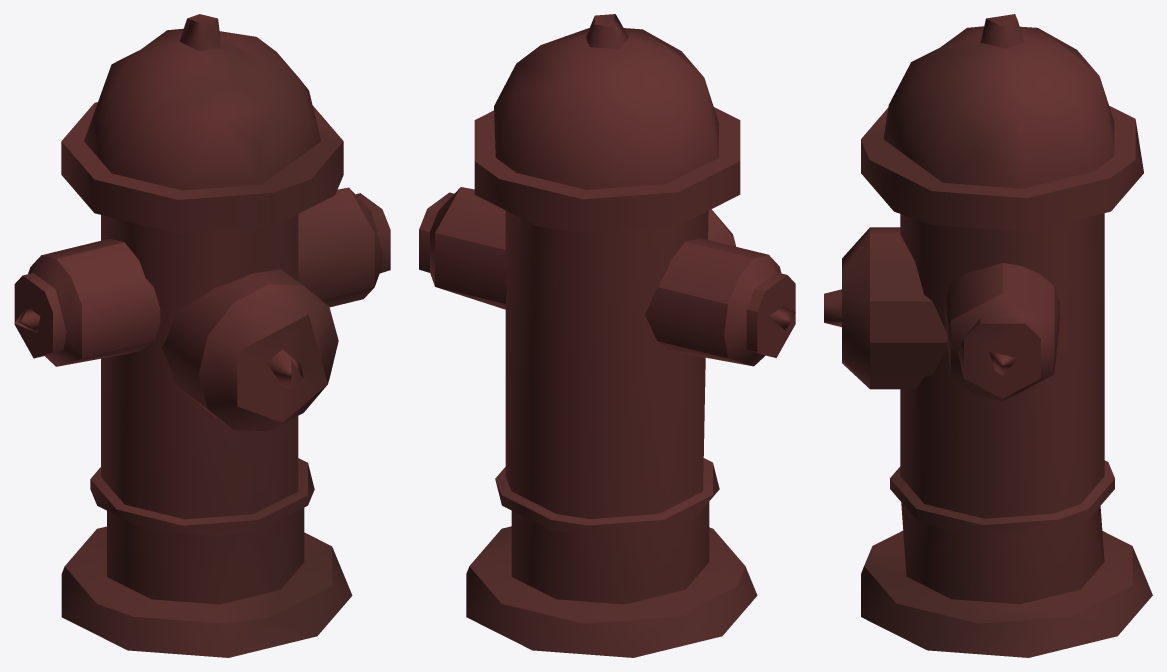
Rendered from ct_hydrant.glb.
3 renders of one model, left to right at view 1: azimuth 30°, elevation 25°; view 2: azimuth 150°, elevation 25°; view 3: azimuth 270°, elevation 25°, orthographic.
Visible parts, largest first — view 1: ct_hydrant; view 2: ct_hydrant; view 3: ct_hydrant.
Part boxes in pixels (x1=…): ct_hydrant: x1=14, y1=14, x2=390, y2=657; ct_hydrant: x1=419, y1=14, x2=795, y2=657; ct_hydrant: x1=824, y1=14, x2=1152, y2=657.
Size of the model in its own units: 0.5151 by 0.7724 by 0.3992.
